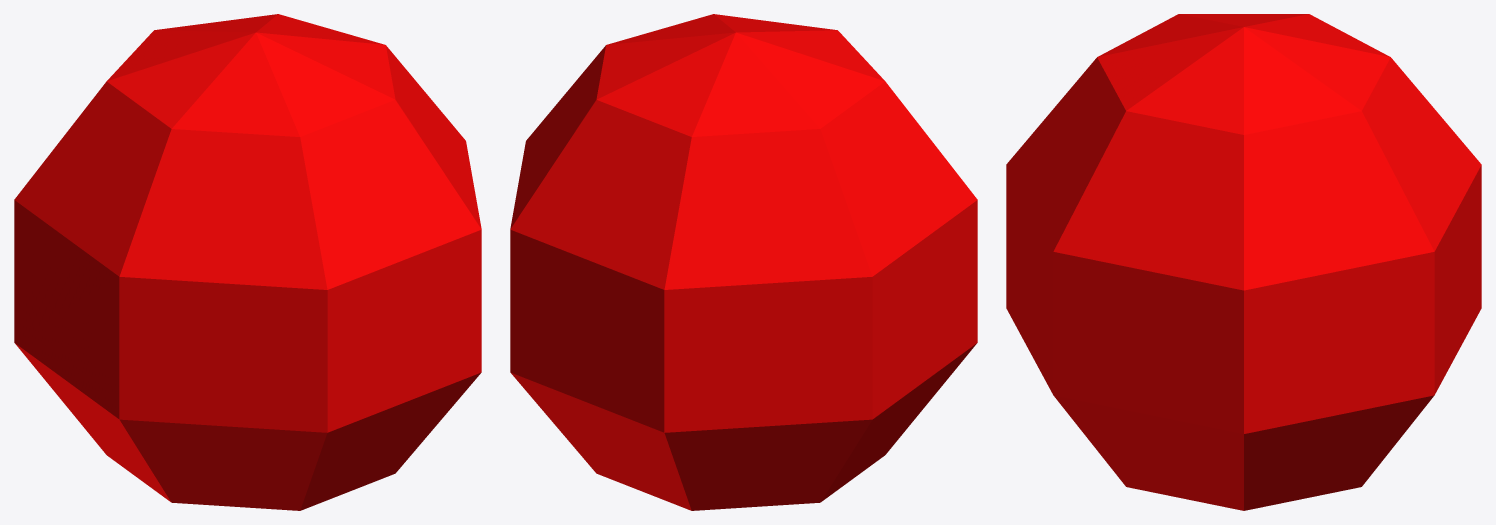
Rendered from visGeo_RightHandMesh.obj.
3 views of the same model, side by side, from view 1: azimuth 30°, elevation 25°; view 2: azimuth 150°, elevation 25°; view 3: azimuth 270°, elevation 25° (orthographic).
Parts seen in each view (by area): view 1: visGeo_RightHand; view 2: visGeo_RightHand; view 3: visGeo_RightHand.
Boxes of the visible parts, x1,y1,x2,y2 form: visGeo_RightHand: (14,14,481,510); visGeo_RightHand: (510,14,977,510); visGeo_RightHand: (1006,14,1481,510).
Bounding box in the file's own units: 0.9323 × 1.03 × 0.9563.
